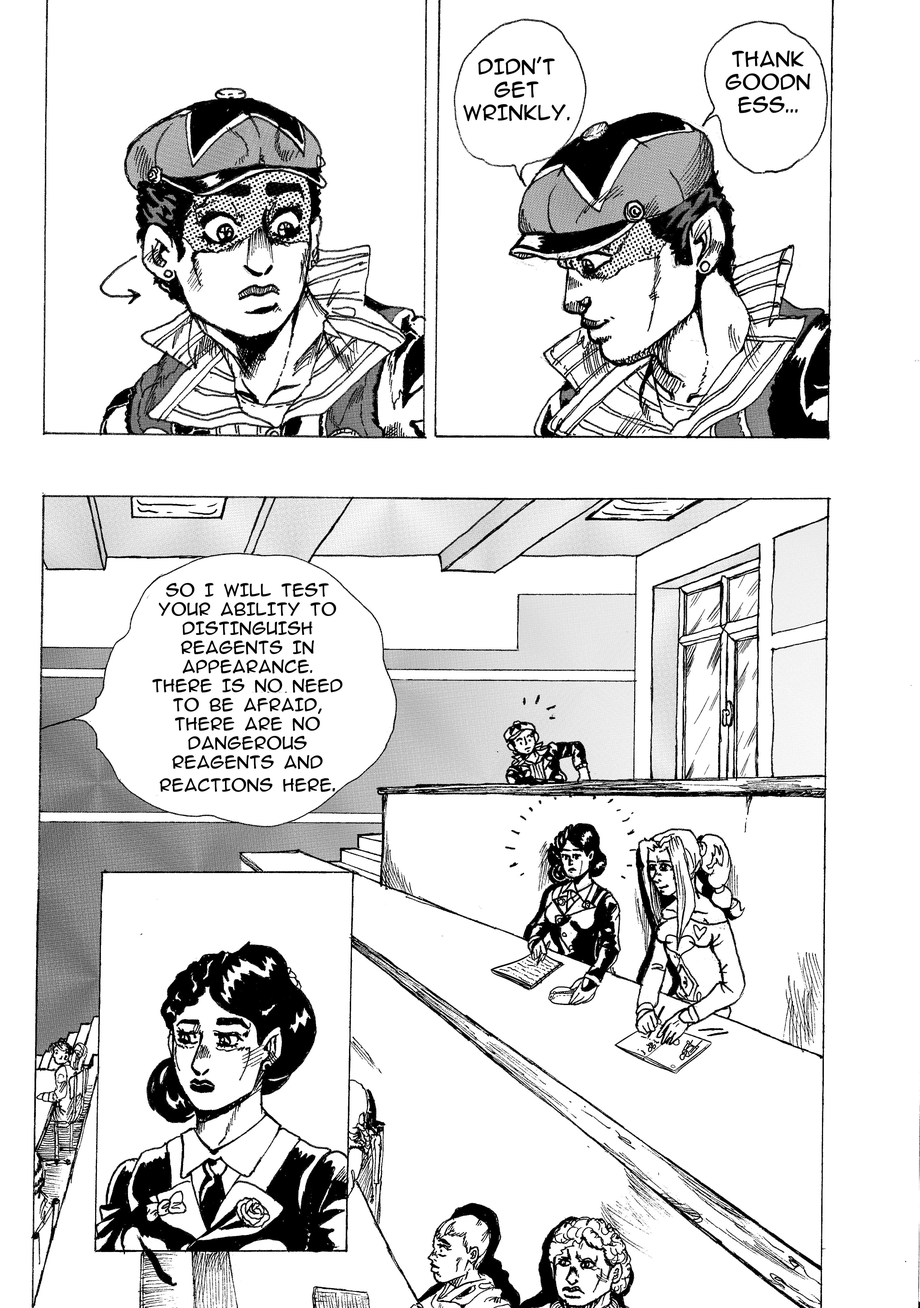bubble: (41, 553, 398, 829), (453, 19, 586, 186), (703, 23, 825, 173)
